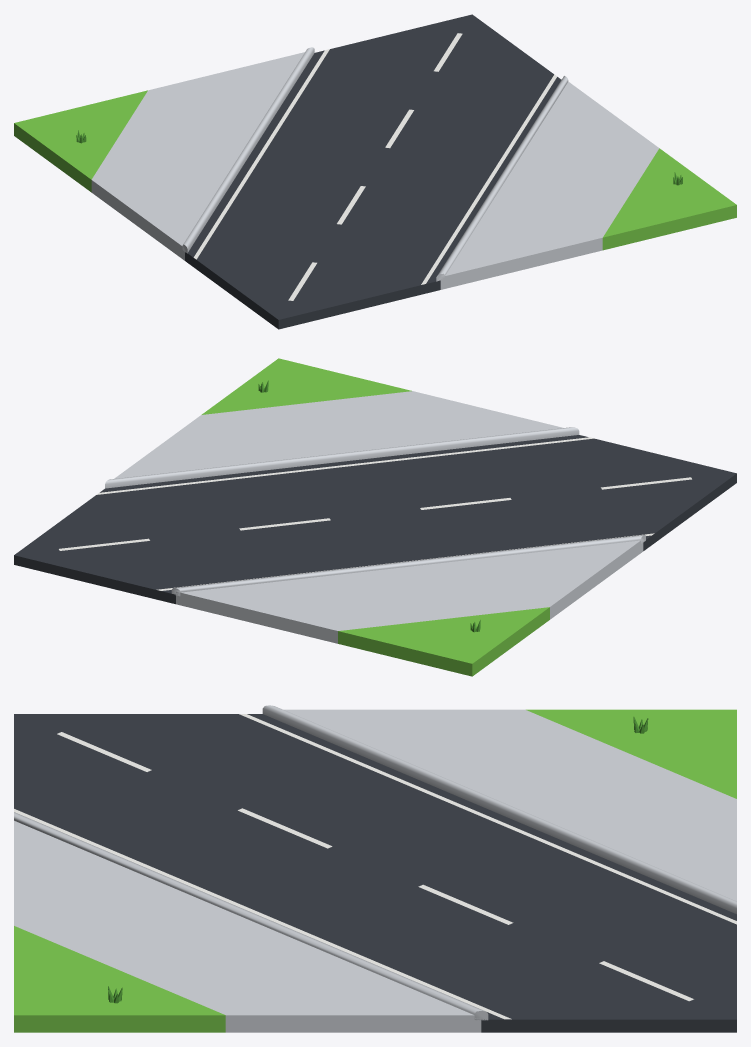
The model's file is rua_diagonal_grama.glb.
The picture shows the model from 3 angles, top to bottom: view 1: azimuth 30°, elevation 25°; view 2: azimuth 150°, elevation 25°; view 3: azimuth 270°, elevation 25°; orthographic projection. The views are drawn at different scales.
Visible parts, largest first — view 1: rua_diagonal_grama; view 2: rua_diagonal_grama; view 3: rua_diagonal_grama.
Boxes of the visible parts, x1,y1,x2,y2 form: rua_diagonal_grama: [14, 14, 736, 329]; rua_diagonal_grama: [14, 358, 736, 676]; rua_diagonal_grama: [14, 705, 736, 1032].
Size of the model in its own units: 15 by 0.6919 by 15.
1 material, 1 textured.
